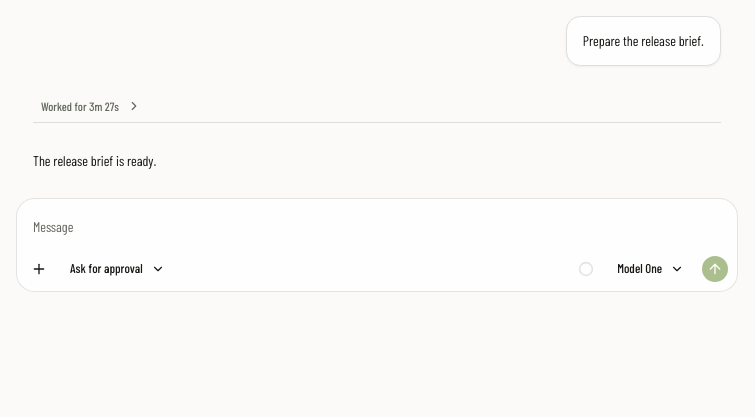
Test case: TaskDetailPlaceholder › keeps the final answer visible below a collapsed, expandable work summary
Expected: the text "The release brief is ready." is shown, top-left (33, 152), bottom-right (156, 169)
Expected: the text "I found the release checklist." is not shown
Click the button with aria-label "Worked for 3m 27s. Show work" at coordinates (91, 106), box top-left (33, 90), bottom-right (149, 122)
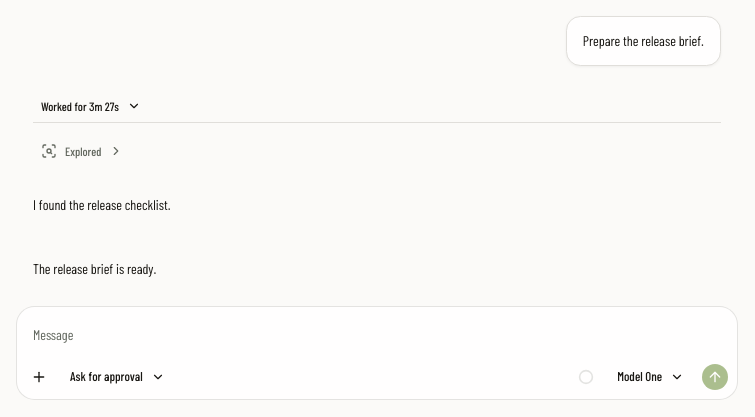
Now the button named "Worked for 3m 27s. Show work" is expanded, box top-left (33, 90), bottom-right (149, 122)
Now the text "I found the release checklist." is shown, box top-left (33, 196), bottom-right (171, 213)
Now the text "Explored" is shown, box top-left (65, 143), bottom-right (101, 159)
